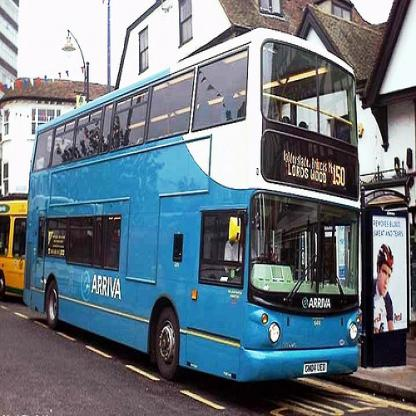bus: (24, 20, 363, 389), (1, 200, 28, 300)
person: (374, 245, 395, 334)
